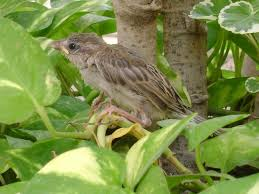hsparrow: (46, 30, 220, 130)
